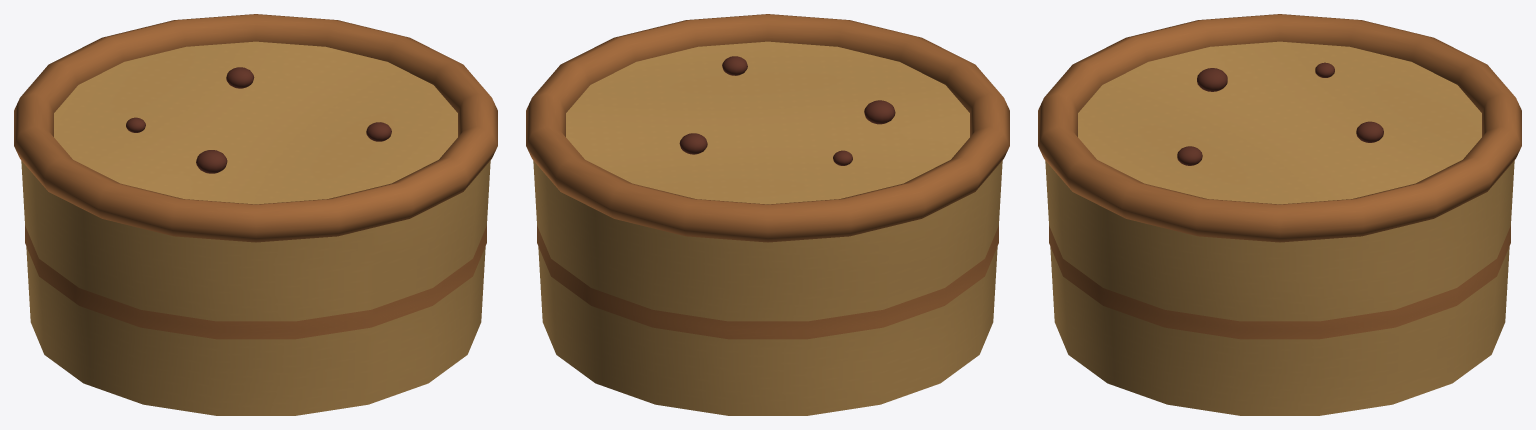
Rendered from sk-household-cheese-wheel.glb.
The picture shows the model from 3 angles, left to right: view 1: azimuth 30°, elevation 25°; view 2: azimuth 150°, elevation 25°; view 3: azimuth 270°, elevation 25°; orthographic projection.
Parts seen in each view (by area): view 1: cheese-wheel-body, household:cheese_wheel-static-food (×2); view 2: cheese-wheel-body, household:cheese_wheel-static-food (×2); view 3: cheese-wheel-body, household:cheese_wheel-static-food (×2).
Boxes of the visible parts, <box> form: cheese-wheel-body: <box>21,41,490,415</box>; household:cheese_wheel-static-food (×2): <box>14,14,497,339</box>; cheese-wheel-body: <box>533,41,1002,415</box>; household:cheese_wheel-static-food (×2): <box>526,14,1009,339</box>; cheese-wheel-body: <box>1045,41,1514,415</box>; household:cheese_wheel-static-food (×2): <box>1038,14,1521,339</box>.
Size of the model in its own units: 0.436 by 0.2098 by 0.4294.
3 materials, 3 textured.
